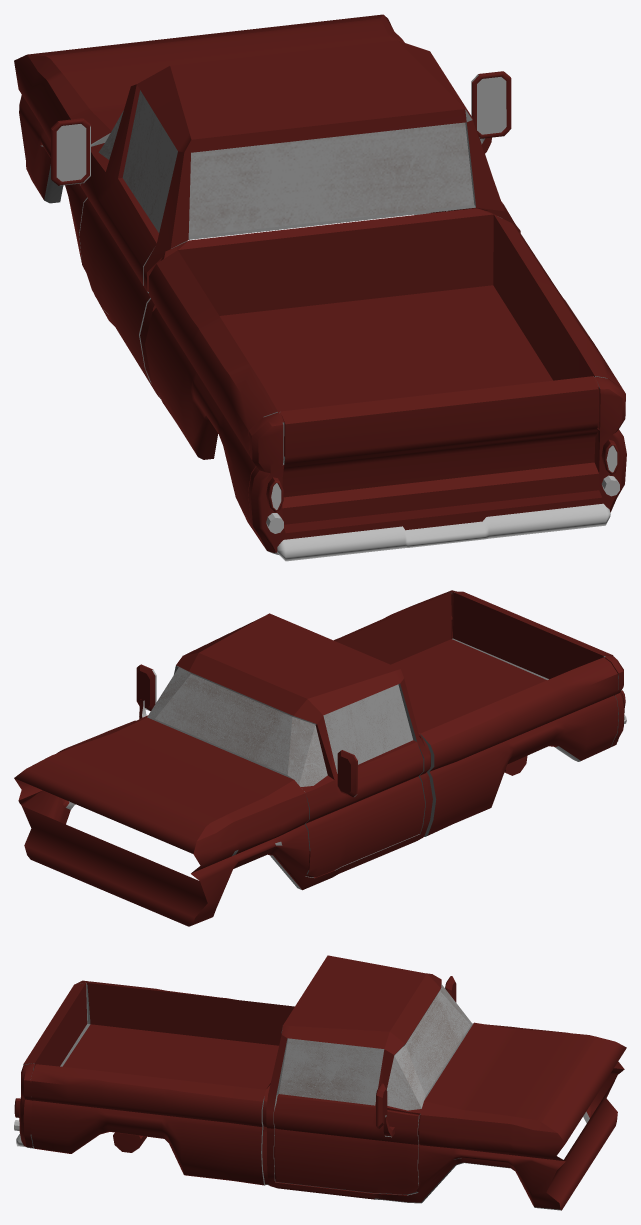
File: truck3.fbx
3 renders of one model, top to bottom at view 1: azimuth 30°, elevation 25°; view 2: azimuth 150°, elevation 25°; view 3: azimuth 270°, elevation 25°, orthographic. The views are drawn at different scales.
Visible parts, largest first — view 1: truckBody, windows, tailGateStep, rearviewMirrors1; view 2: truckBody, windows, rearviewMirrors1; view 3: truckBody, windows, rearviewMirrors1, axle.
Part boxes in pixels (<box>): truckBody: <box>14,14,626,554</box>; windows: <box>98,90,474,236</box>; tailGateStep: <box>266,439,619,561</box>; rearviewMirrors1: <box>51,71,511,185</box>; truckBody: <box>14,590,624,926</box>; windows: <box>147,668,412,786</box>; rearviewMirrors1: <box>136,664,357,797</box>; truckBody: <box>19,955,626,1210</box>; windows: <box>279,984,472,1110</box>; rearviewMirrors1: <box>376,976,456,1137</box>; axle: <box>113,1132,146,1152</box>.
Bounding box in the file's own units: 5.37 × 2.49 × 8.82.
Materials: 5 (1 with a texture image).
